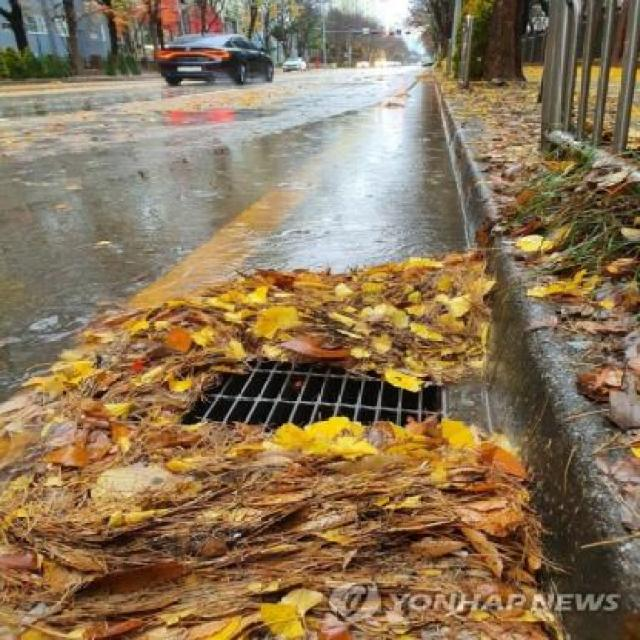Drain Hole: (156, 309, 494, 507)
